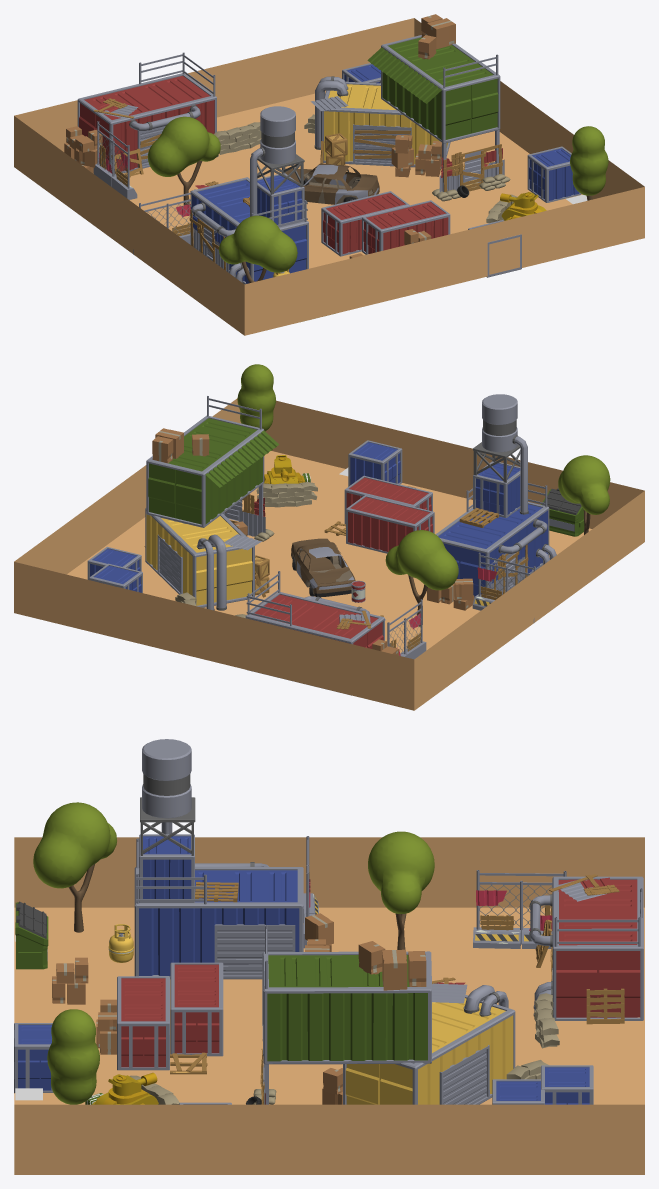
File: level.glb
3 views of the same model, one above another, from view 1: azimuth 30°, elevation 25°; view 2: azimuth 150°, elevation 25°; view 3: azimuth 270°, elevation 25° (orthographic). The views are drawn at different scales.
Visible parts, largest first — view 1: ground, Structure_2, Structure_3, Structure_1, Tree_3.001, Tree_3, Container_Long, Container_Long.001, Barrier_Trash, Debris_BrokenCar, Container_Small, Tree_2.001 (+5 smaller); view 2: ground, Structure_2, Structure_3, Structure_1, Container_Long.001, Tree_3.001, Debris_BrokenCar, Tree_3, Container_Small.001, Tree_2.001, Container_Long, TrashContainer (+7 smaller); view 3: ground, Structure_2, Structure_3, Structure_1, Tree_3, Container_Long.001, Container_Long, Tree_3.001, Tree_2.001, Barrier_Fixed.001, Container_Small.001, TrashContainer (+10 smaller).
Boxes of the visible parts, x1,y1,x2,y2 form: ground: [14, 18, 644, 335]; Structure_2: [310, 14, 500, 191]; Structure_3: [189, 106, 308, 284]; Structure_1: [64, 52, 218, 177]; Tree_3.001: [147, 116, 220, 205]; Tree_3: [219, 215, 297, 282]; Container_Long: [362, 200, 450, 254]; Container_Long.001: [321, 191, 409, 256]; Barrier_Trash: [432, 144, 510, 201]; Debris_BrokenCar: [285, 163, 379, 204]; Container_Small: [527, 146, 581, 202]; Tree_2.001: [570, 126, 608, 200]; ground: [14, 398, 644, 710]; Structure_2: [145, 396, 278, 610]; Structure_3: [427, 394, 556, 610]; Structure_1: [245, 571, 398, 695]; Container_Long.001: [346, 495, 434, 553]; Tree_3.001: [385, 530, 458, 626]; Debris_BrokenCar: [291, 538, 355, 597]; Tree_3: [558, 455, 610, 534]; Container_Small.001: [348, 440, 402, 486]; Tree_2.001: [237, 364, 275, 431]; Container_Long: [344, 475, 432, 524]; TrashContainer: [541, 488, 584, 536]; ground: [14, 837, 644, 1174]; Structure_2: [262, 925, 515, 1104]; Structure_3: [134, 739, 333, 979]; Structure_1: [529, 874, 643, 1020]; Tree_3: [33, 802, 116, 932]; Container_Long.001: [170, 962, 223, 1056]; Container_Long: [117, 976, 169, 1070]; Tree_3.001: [368, 831, 434, 949]; Tree_2.001: [47, 1009, 99, 1104]; Barrier_Fixed.001: [473, 870, 566, 948]; Container_Small.001: [14, 1023, 53, 1093]; TrashContainer: [15, 901, 48, 969].
Size of what is drawn, in the model's own units: 25 by 9.64 by 24.94.
82 materials, 1 textured.
